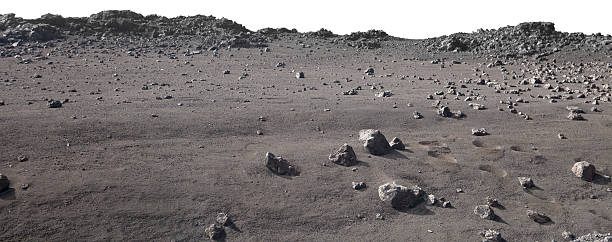boulder: (379, 181, 427, 210), (360, 128, 394, 157)
